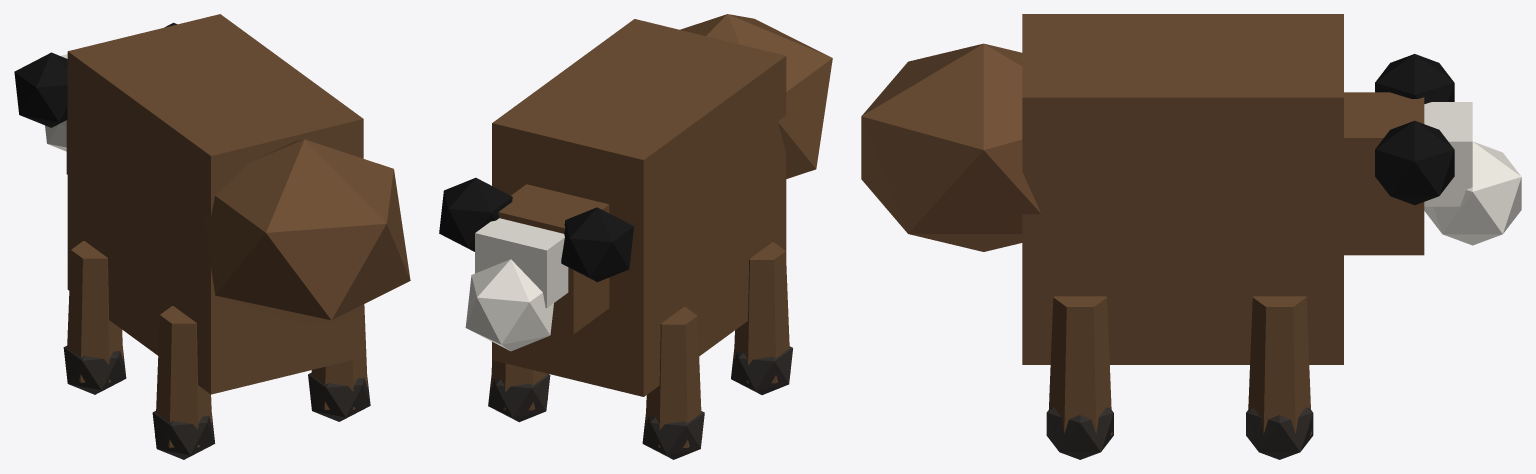
File: ANI_Dog.fbx
The picture shows the model from 3 angles, left to right: view 1: azimuth 30°, elevation 25°; view 2: azimuth 150°, elevation 25°; view 3: azimuth 270°, elevation 25°; orthographic projection. The views are drawn at different scales.
Parts seen in each view (by area): view 1: ANI_Dog__COL_Main, ANI_Dog__BODY; view 2: ANI_Dog__COL_Main, ANI_Dog__BODY; view 3: ANI_Dog__COL_Main, ANI_Dog__BODY.
Boxes of the visible parts, x1,y1,x2,y2 form: ANI_Dog__COL_Main: (67, 14, 363, 394); ANI_Dog__BODY: (14, 22, 410, 459); ANI_Dog__COL_Main: (492, 19, 786, 396); ANI_Dog__BODY: (439, 14, 832, 459); ANI_Dog__COL_Main: (1022, 14, 1343, 364); ANI_Dog__BODY: (861, 43, 1521, 459).
Size of the model in its own units: 0.7189 by 1.09 by 1.74.
